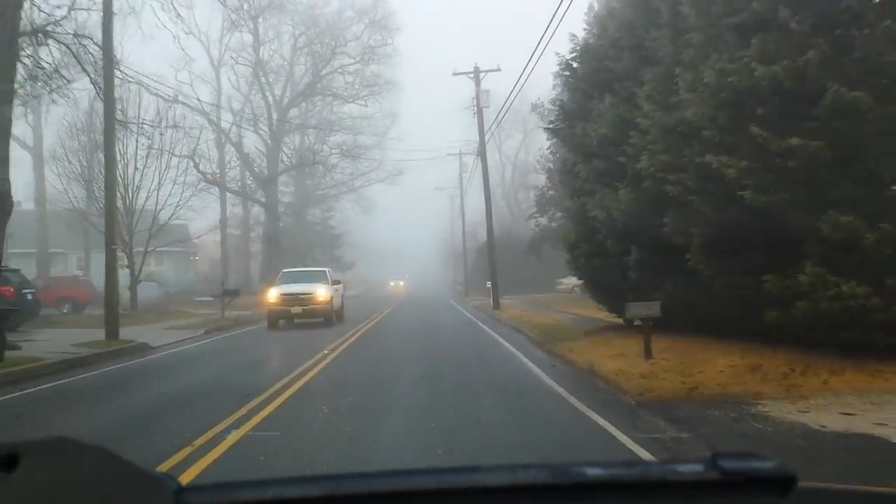car: (265, 265, 347, 329), (26, 273, 100, 316), (1, 263, 41, 336), (553, 266, 609, 296), (388, 275, 406, 290)
